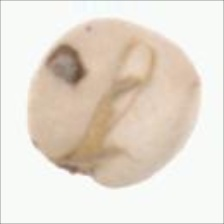L5: (74, 36, 157, 153), (121, 18, 191, 59), (41, 149, 113, 186)
L6: (25, 15, 206, 191)
